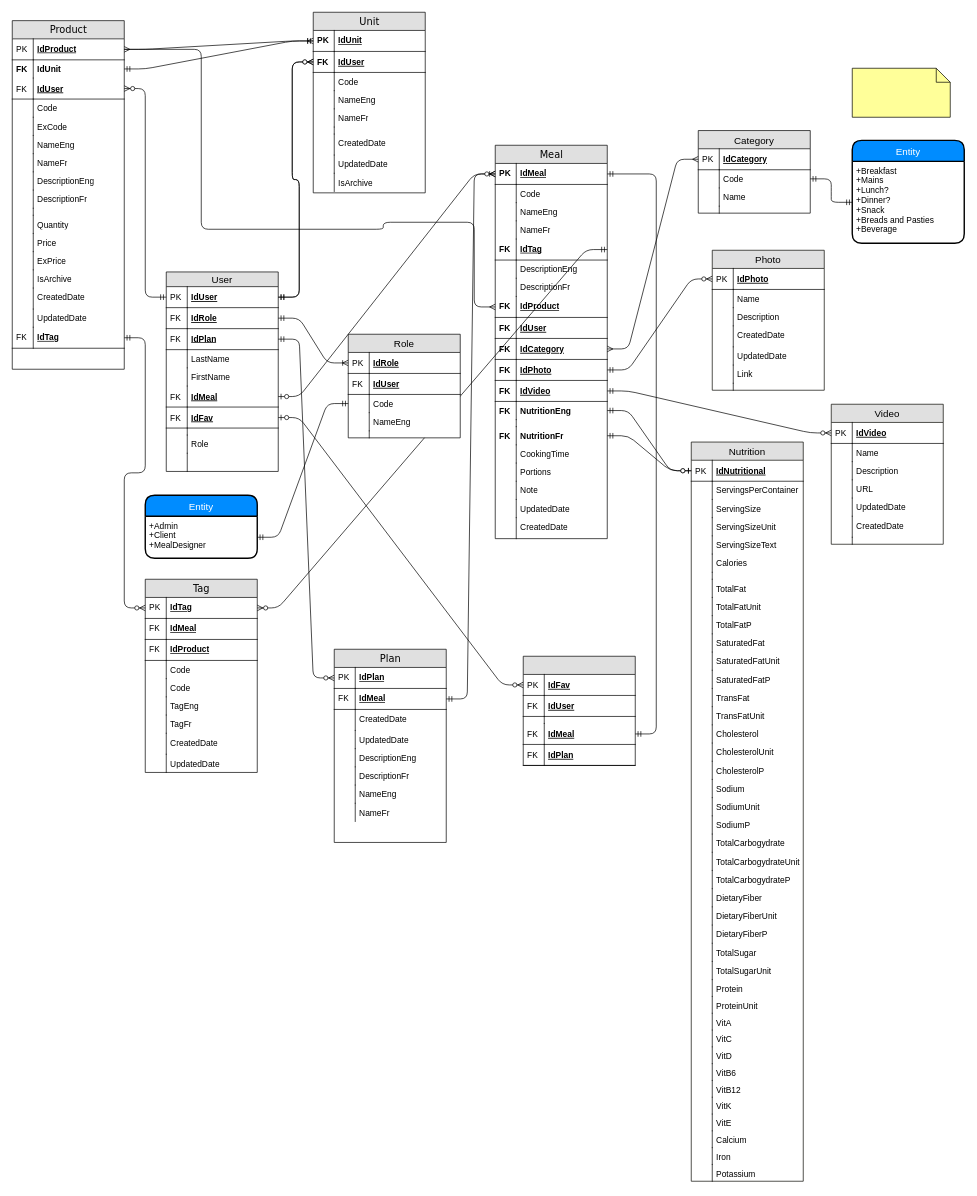
Image size: 977x1196. Some labels were removed from this diagram. The box of each missing label's shape, as (x1, y1, x2, y2) in pixels:
Favorite: (523, 656, 635, 765)
GV use Mains for +Lunch +Dinner: (852, 68, 950, 117)
